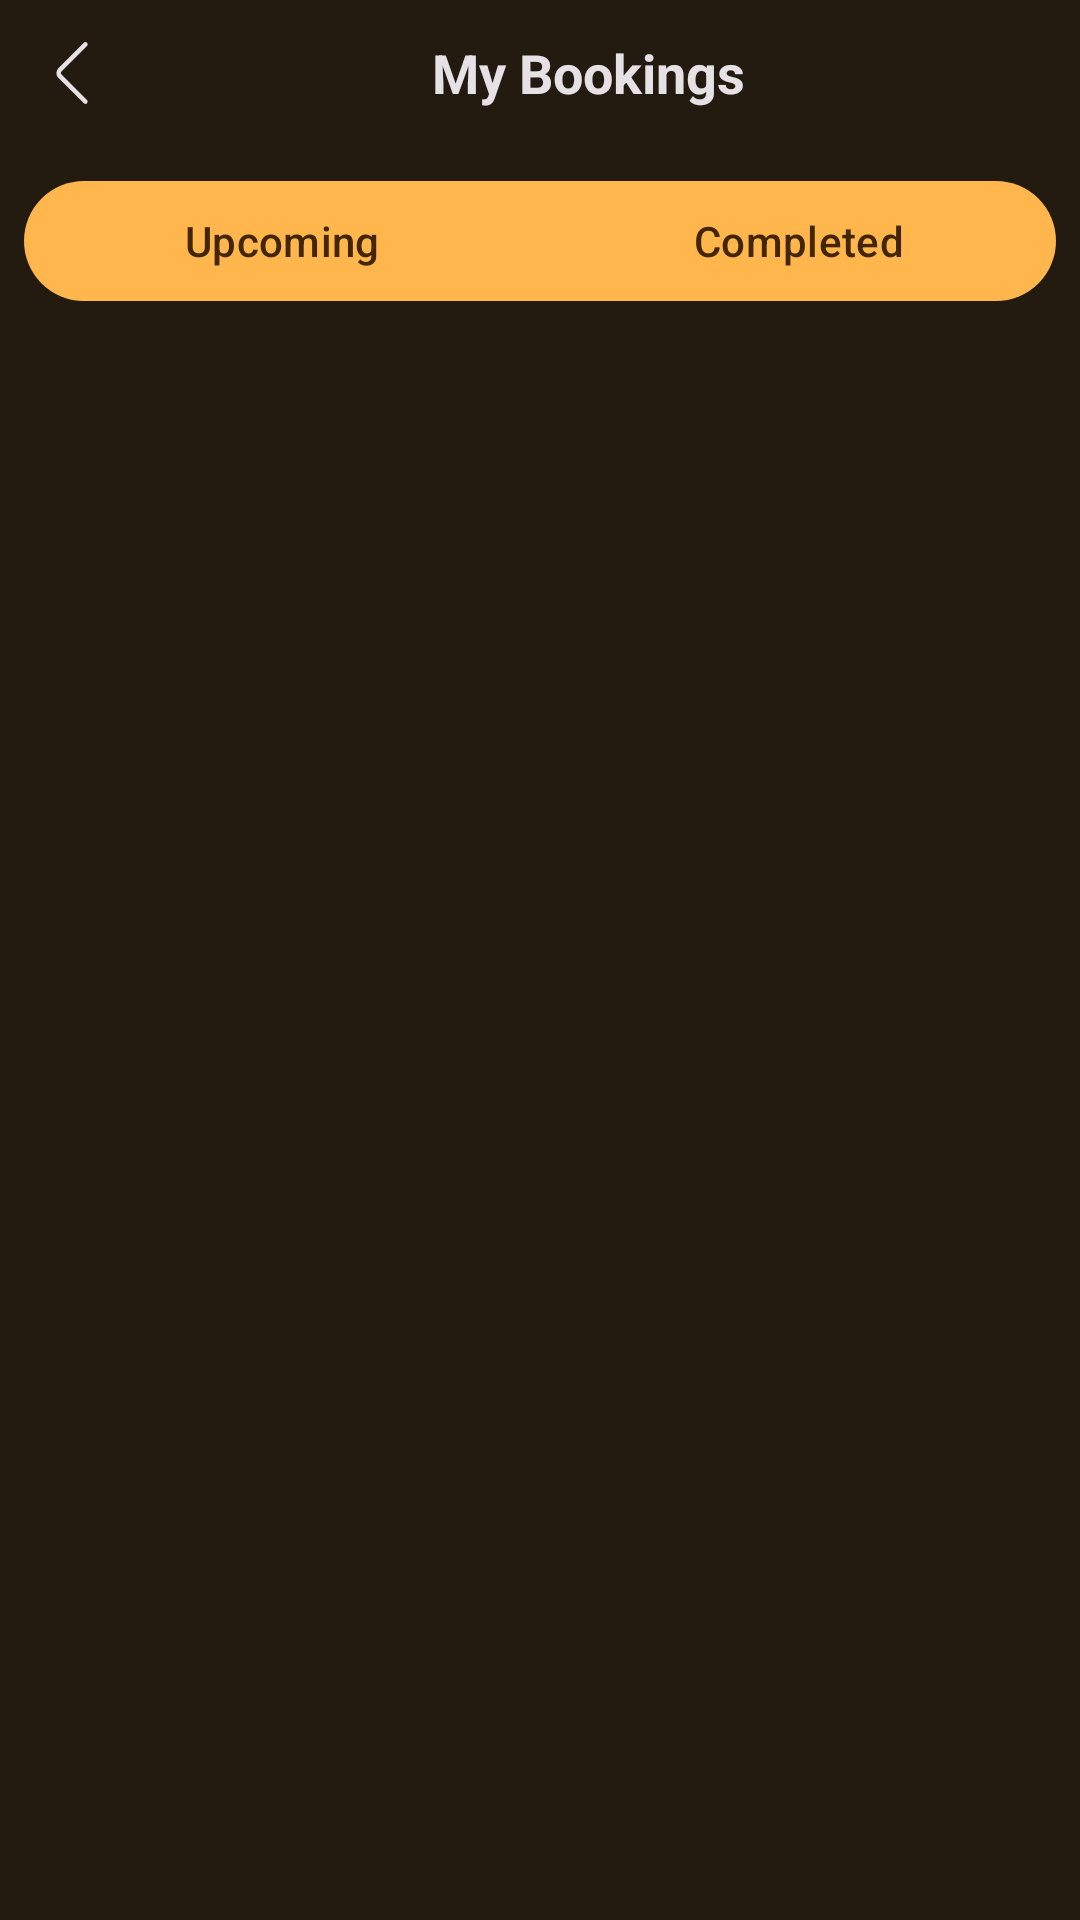

Where to tap for icons on this 1080px x 1920px app screen, as (x,y):
back arrow button: (72,73)
